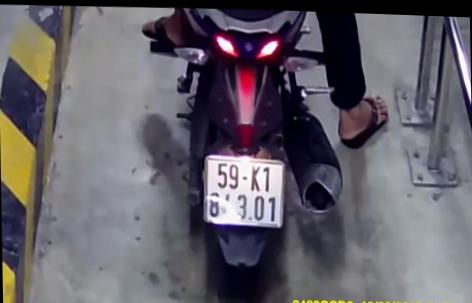LP: (199, 145, 286, 227)
